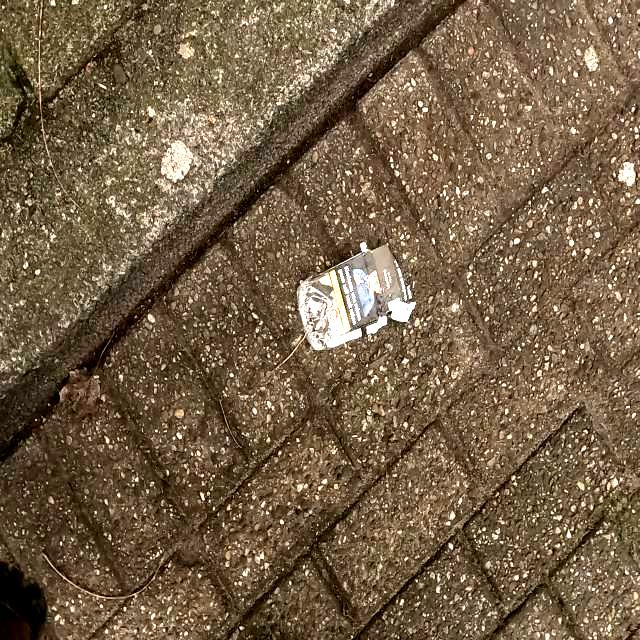Paper: (296, 240, 416, 352)
